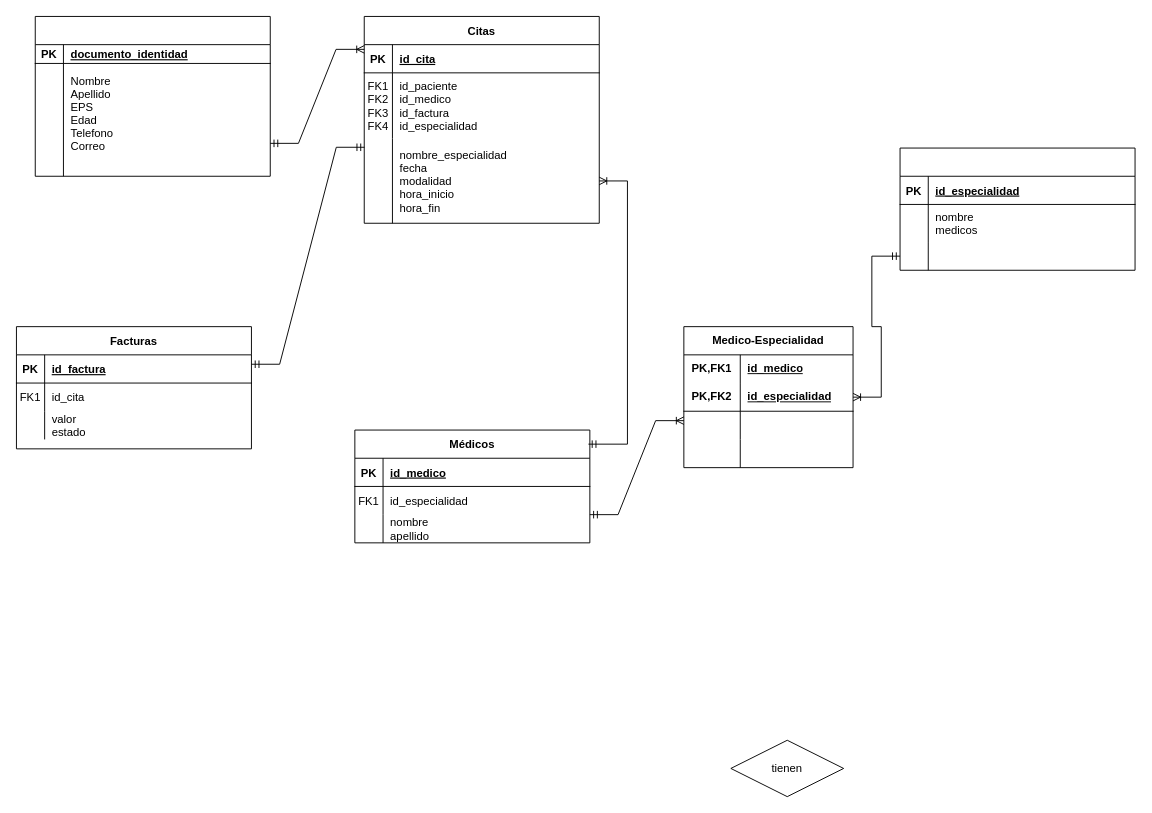
Some shapes in this 1152 by 813 pixel diagram are drawn without their labels. Here are the shapes that lost their labels. From the top down, the box of each, then its label:
(34, 16, 270, 176): Pacientes
(899, 147, 1135, 270): Especialidades
